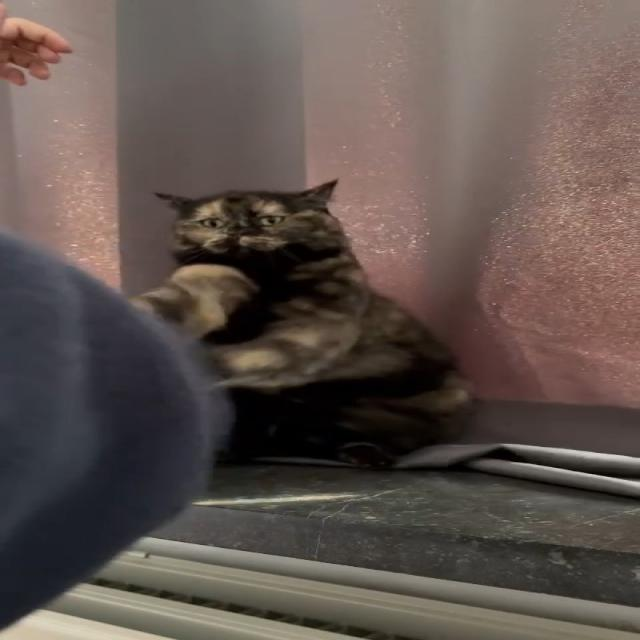authorized: (129, 177, 475, 468)
